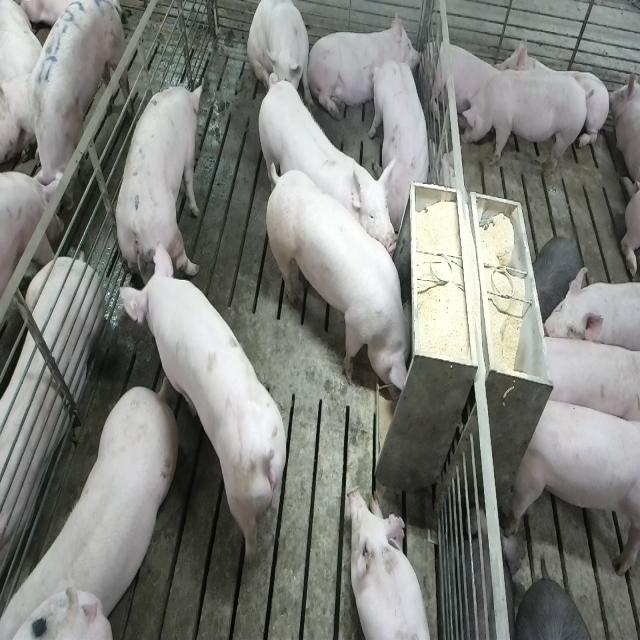Feeding: (270, 167, 421, 403)
Sitting: (248, 1, 312, 112)
Standing: (124, 248, 292, 569), (5, 376, 183, 635), (253, 76, 394, 260), (506, 392, 639, 582), (23, 0, 125, 212), (115, 81, 205, 297), (456, 66, 587, 178), (533, 331, 637, 428), (541, 270, 640, 356)
Sternal_lying: (500, 31, 610, 157), (347, 486, 433, 640), (313, 12, 421, 124), (426, 34, 499, 119)
